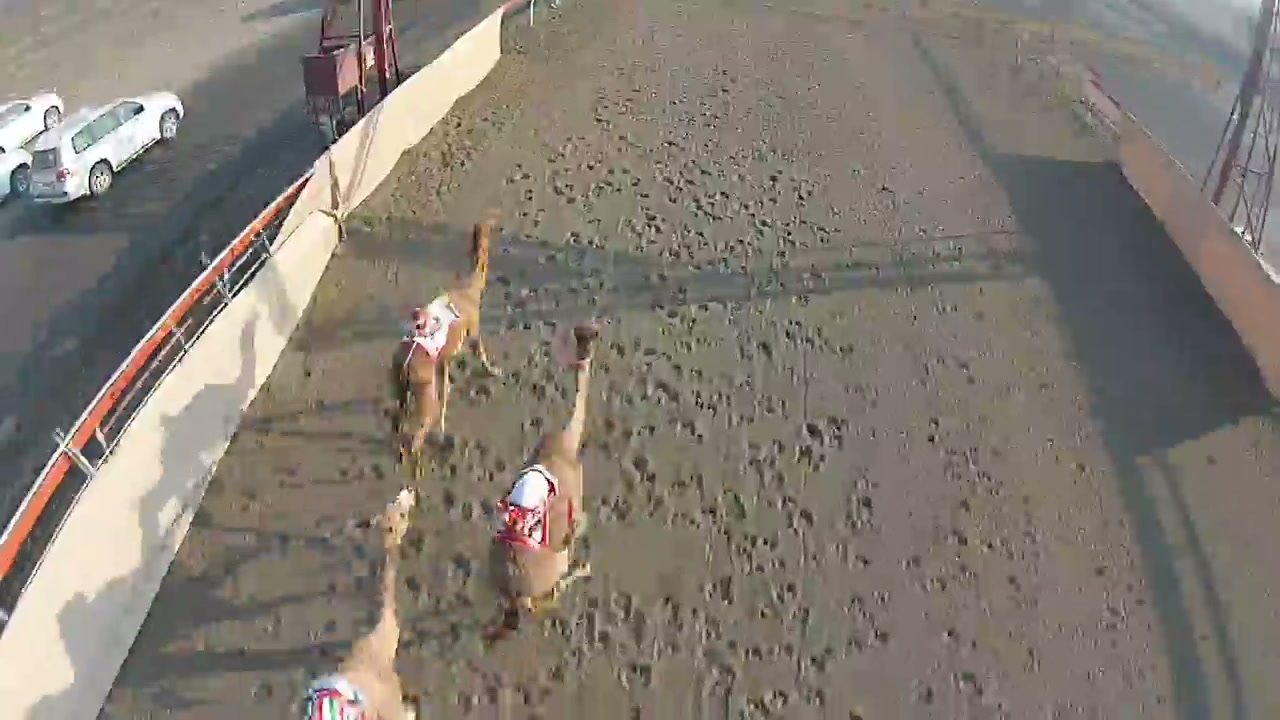animal_foot_print: (415, 95, 737, 715), (573, 195, 890, 697)
